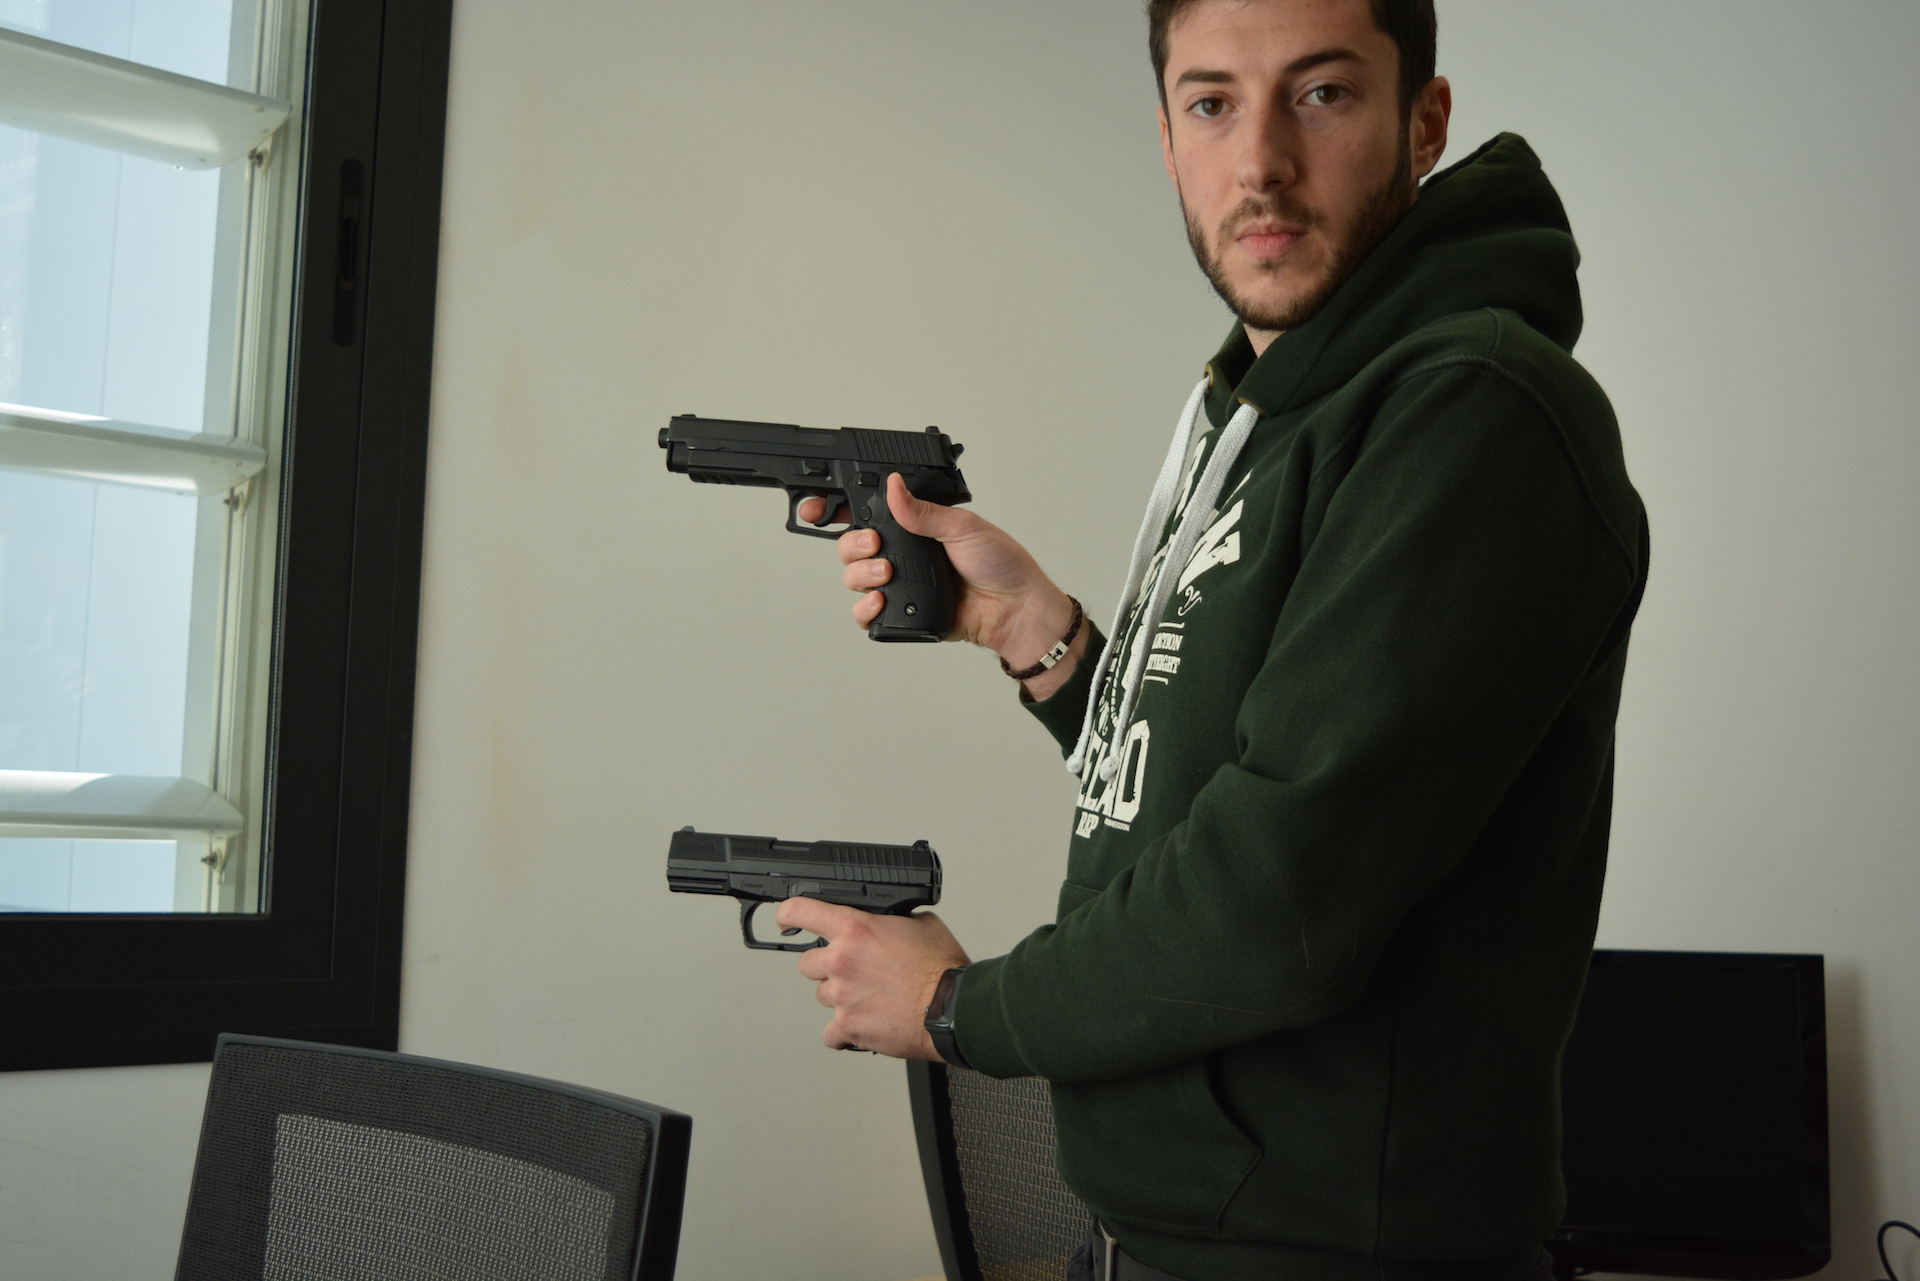pistol: (658, 410, 975, 648), (663, 822, 946, 1058)
